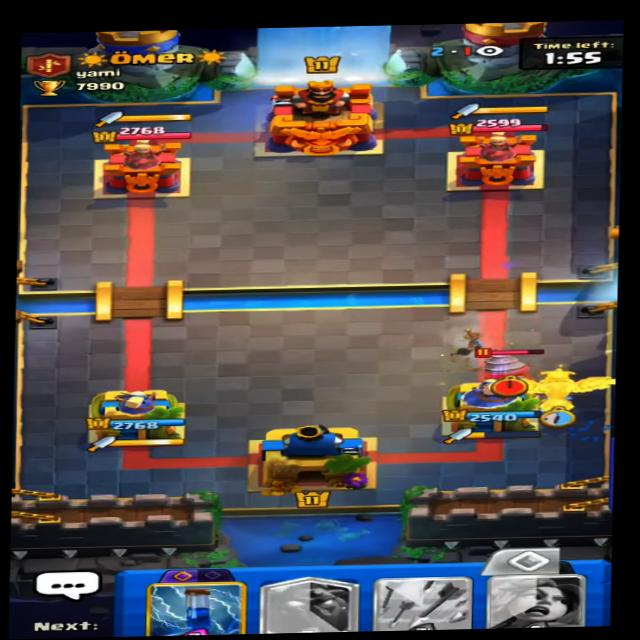goblin-drill: (470, 326, 548, 394)
